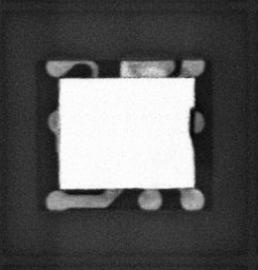DIE_BROKEN: (186, 104, 197, 148)
